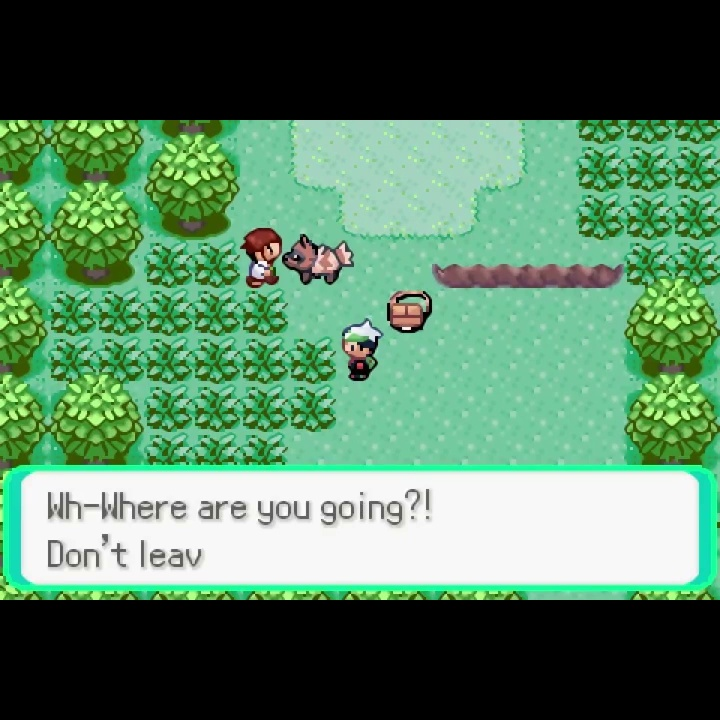grass: (143, 240, 195, 291), (624, 191, 673, 242), (192, 336, 241, 387), (288, 383, 337, 434), (575, 192, 625, 241), (288, 337, 338, 386), (672, 191, 720, 242), (241, 335, 289, 386), (240, 287, 289, 336), (48, 337, 98, 385), (144, 289, 194, 337), (48, 290, 97, 338), (193, 385, 242, 433), (673, 240, 720, 290), (575, 145, 625, 192), (626, 144, 673, 194), (98, 335, 145, 385), (193, 289, 241, 337), (624, 242, 673, 289), (673, 145, 720, 194), (193, 241, 240, 290), (242, 385, 291, 432), (145, 384, 193, 431), (146, 336, 192, 385), (96, 291, 144, 337), (238, 431, 290, 465), (143, 431, 195, 465), (193, 432, 242, 465), (626, 120, 675, 146), (576, 121, 625, 144), (675, 121, 720, 144)
npc: (336, 314, 385, 383), (239, 225, 285, 291)
wall: (144, 133, 241, 241), (48, 181, 144, 290), (623, 276, 720, 380), (623, 373, 720, 465), (49, 372, 144, 465), (47, 120, 146, 185), (1, 181, 49, 284), (1, 278, 49, 381), (1, 371, 49, 464), (1, 119, 48, 186), (144, 120, 239, 145)
